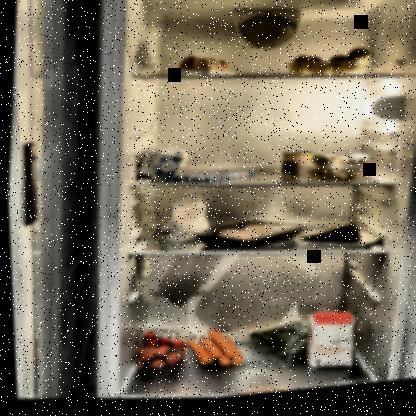carrot: (178, 328, 245, 376)
cheese: (294, 223, 361, 256)
chicken: (212, 222, 284, 256)
chocolate: (169, 165, 256, 194)
corn: (278, 154, 311, 185)
eggs: (174, 54, 232, 85)
green_beans: (242, 320, 312, 380)
milk: (133, 145, 190, 186)
mushrooms: (309, 154, 369, 191)
potato: (284, 46, 370, 89)
strawberries: (126, 328, 186, 378)
